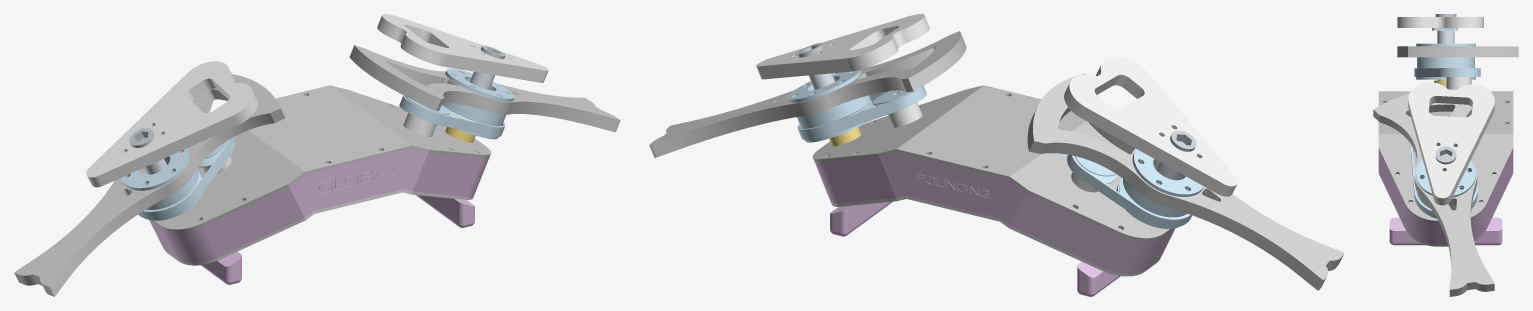
The model's file is robort5.gltf.
3 views of the same model, side by side, from view 1: azimuth 30°, elevation 25°; view 2: azimuth 150°, elevation 25°; view 3: azimuth 270°, elevation 25° (orthographic). The views are drawn at different scales.
Visible parts, largest first — view 1: top_plate, Part 2 (1) (×2), Part 2 (2) (×2), corner_wall (×2), center_wall (1), belt (×2), endcap (×2), foot (×2), occurrence of 67 (×2), bottom_plate, nylon_spacer motor; view 2: Part 2 (1) (×2), top_plate, Part 2 (2) (×2), corner_wall (×2), center_wall, belt (×2), endcap (×2), foot (×2), occurrence of 67 (×2), bottom_plate, nylon_spacer motor, small_pulley; view 3: Part 2 (2) (×2), Part 2 (1) (×2), top_plate, corner_wall, foot, belt (×2), endcap (×2), occurrence of 67 (×2), Hex socket head cap screw M16x2.00 x 25 (1), bottom_plate, nylon_spacer motor, SPJW20-80-M16-N16.
Boxes of the visible parts, x1,y1,x2,y2 form: top_plate: [152, 85, 491, 231]; Part 2 (1) (×2): [14, 45, 620, 296]; Part 2 (2) (×2): [86, 14, 548, 187]; corner_wall (×2): [149, 151, 489, 262]; center_wall (1): [297, 148, 419, 211]; belt (×2): [138, 95, 505, 219]; endcap (×2): [121, 68, 514, 190]; foot (×2): [201, 195, 474, 284]; occurrence of 67 (×2): [143, 103, 505, 210]; bottom_plate: [163, 189, 473, 265]; nylon_spacer motor: [403, 113, 436, 136]; Part 2 (1) (×2): [649, 31, 1344, 290]; top_plate: [812, 85, 1172, 240]; Part 2 (2) (×2): [756, 14, 1237, 196]; corner_wall (×2): [814, 155, 1175, 273]; center_wall: [888, 152, 1018, 219]; belt (×2): [797, 86, 1191, 227]; endcap (×2): [787, 70, 1203, 196]; foot (×2): [830, 201, 1120, 296]; occurrence of 67 (×2): [797, 95, 1187, 217]; bottom_plate: [831, 195, 1160, 276]; nylon_spacer motor: [887, 102, 922, 127]; small_pulley: [1074, 156, 1117, 183]; Part 2 (2) (×2): [1397, 17, 1494, 205]; Part 2 (1) (×2): [1373, 46, 1518, 296]; top_plate: [1378, 91, 1513, 222]; corner_wall: [1378, 150, 1513, 244]; foot: [1389, 217, 1502, 245]; belt (×2): [1411, 68, 1480, 217]; endcap (×2): [1416, 43, 1475, 197]; occurrence of 67 (×2): [1416, 57, 1475, 210]; Hex socket head cap screw M16x2.00 x 25 (1): [1435, 146, 1456, 164]; bottom_plate: [1378, 172, 1513, 246]; nylon_spacer motor: [1446, 77, 1471, 89]; SPJW20-80-M16-N16: [1437, 30, 1454, 80].
Size of the model in its own units: 0.6644 by 0.1874 by 0.1673.
